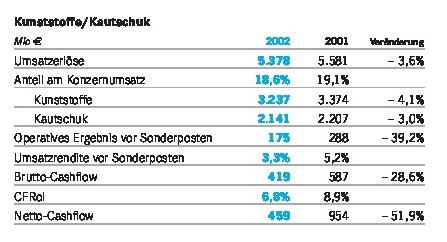table: (0, 0, 447, 242)
